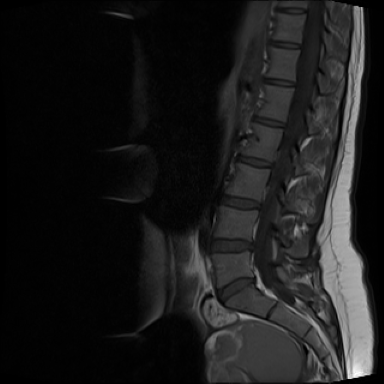Lumbar Disc Bulge (LDB): (209, 268, 265, 310), (200, 231, 260, 261)
Normal IVD: (215, 187, 265, 216), (246, 109, 289, 134), (233, 149, 277, 173), (256, 71, 297, 91), (266, 35, 304, 52), (273, 5, 309, 16)
